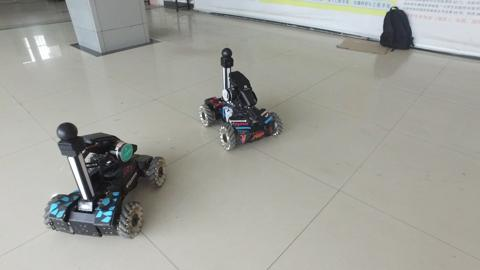chariot: (34, 123, 171, 243), (193, 44, 286, 157)
